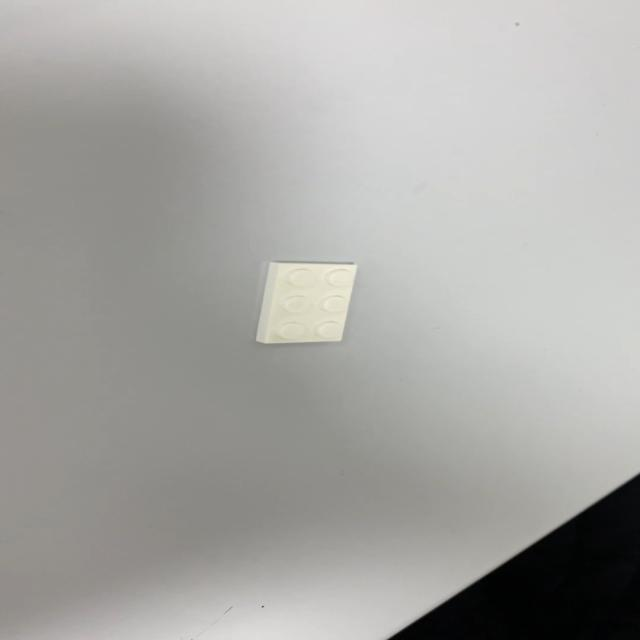C3x2x0: (254, 260, 358, 344)
